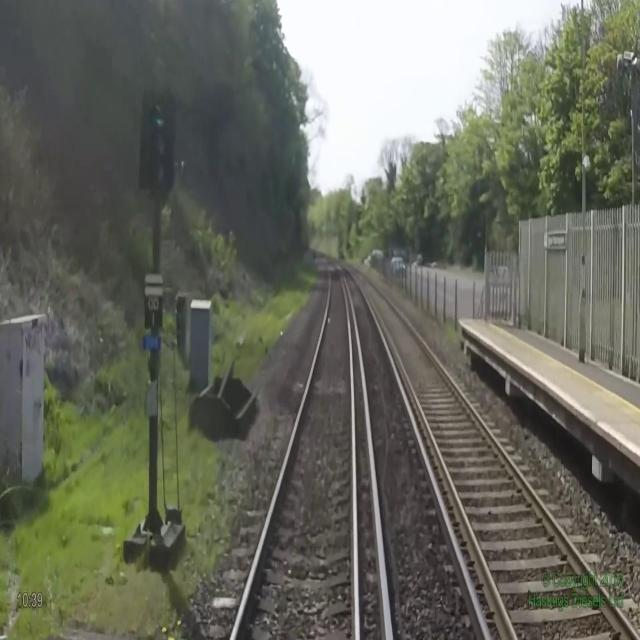rail-track: (360, 274, 635, 639), (235, 267, 354, 639)
